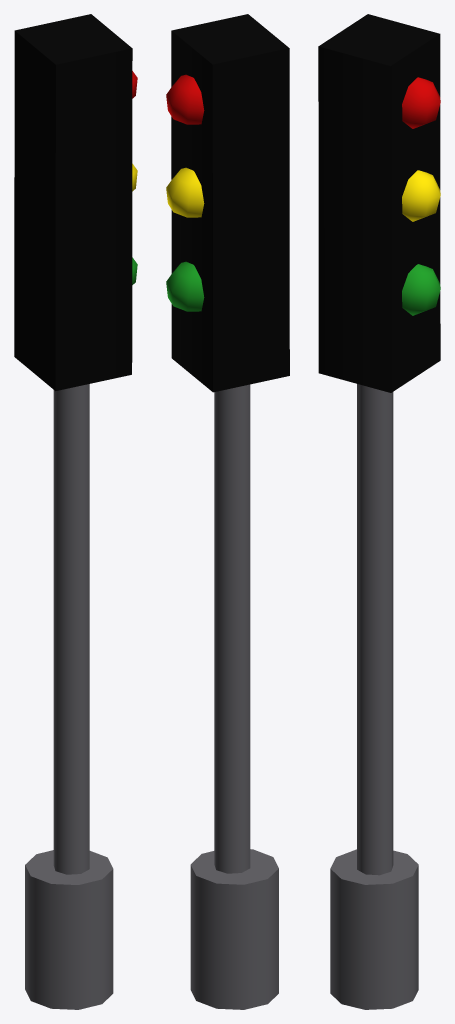
File: semaforo.fbx
The picture shows the model from 3 angles, left to right: view 1: azimuth 30°, elevation 25°; view 2: azimuth 210°, elevation 25°; view 3: azimuth 330°, elevation 25°; orthographic projection.
Visible parts, largest first — view 1: Box001; view 2: Box001; view 3: Box001.
Part boxes in pixels (<box>): Box001: <box>14,14,137,1009</box>; Box001: <box>166,14,289,1009</box>; Box001: <box>318,14,440,1009</box>.
Bounding box in the file's own units: 11.57 × 9.37 × 103.
1 material, 1 textured.
